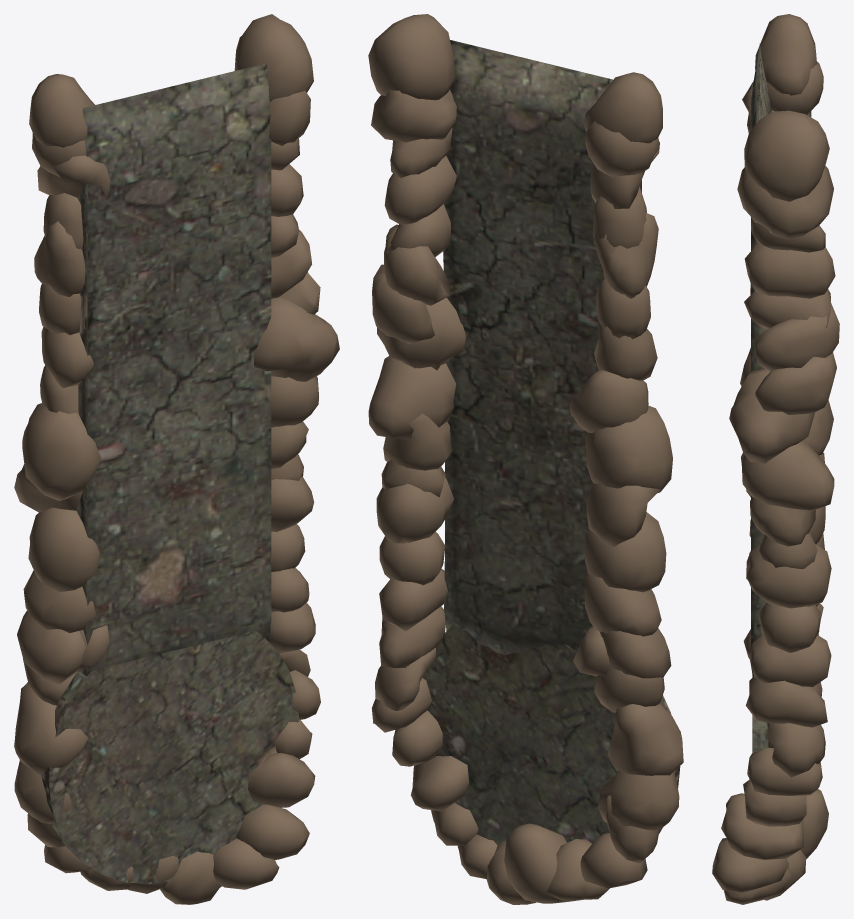
File: Dirt Path.fbx
3 views of the same model, side by side, from view 1: azimuth 30°, elevation 25°; view 2: azimuth 150°, elevation 25°; view 3: azimuth 270°, elevation 25° (orthographic). The views are drawn at different scales.
Visible parts, largest first — view 1: Dirt Path; view 2: Dirt Path; view 3: Dirt Path.
Boxes of the visible parts, x1,y1,x2,y2 form: Dirt Path: (14,14,339,904); Dirt Path: (368,14,683,904); Dirt Path: (712,14,839,904).
Size of the model in its own units: 420 by 1122 by 157.
Materials: 2 (1 with a texture image).
